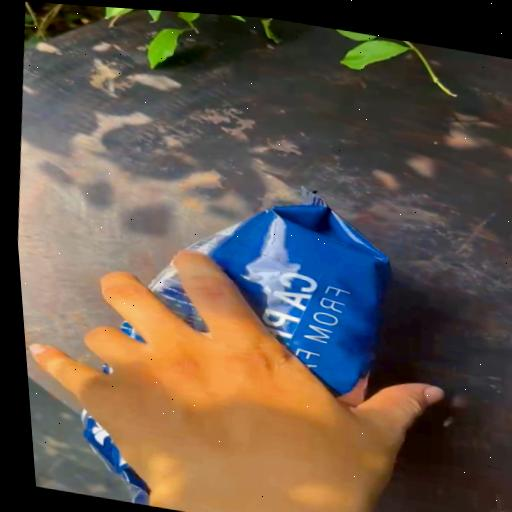cafe_hat: (190, 188, 391, 396), (150, 265, 207, 331)
